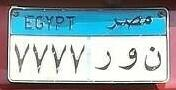7: (11, 41, 31, 75), (32, 40, 50, 76), (49, 42, 68, 76), (69, 40, 86, 75)
noon: (143, 41, 163, 74)
raa: (93, 49, 112, 74)
waw: (116, 47, 138, 75)
